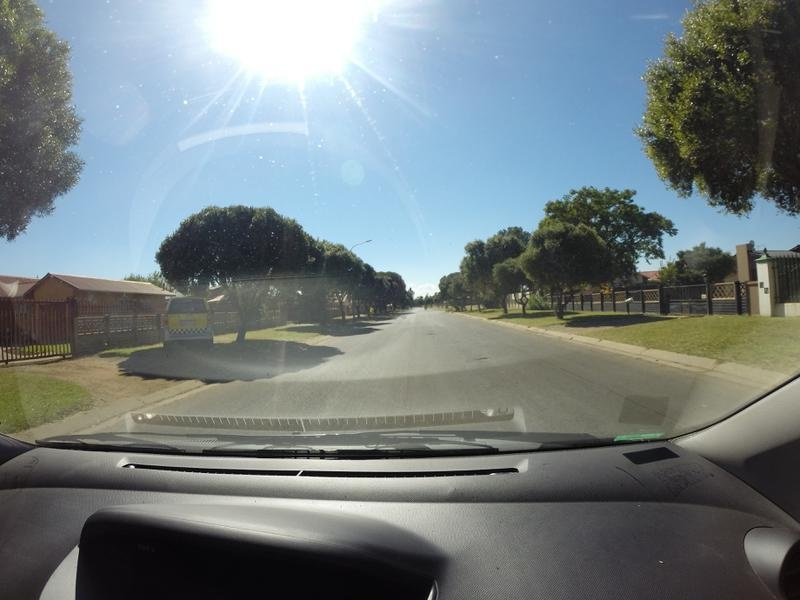pothole: (478, 350, 488, 366)
